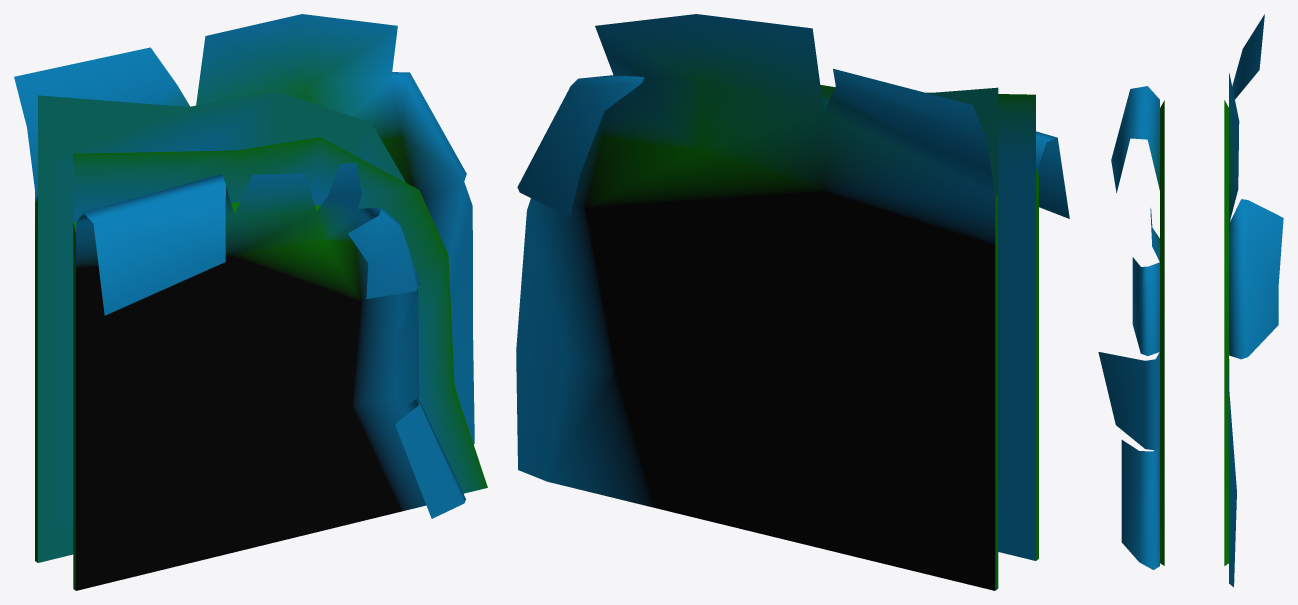
The model's file is DBK_Drywall_End_B.fbx.
The picture shows the model from 3 angles, left to right: view 1: azimuth 30°, elevation 25°; view 2: azimuth 150°, elevation 25°; view 3: azimuth 270°, elevation 25°; orthographic projection. The views are drawn at different scales.
Visible parts, largest first — view 1: DBK_Drywall_End_B; view 2: DBK_Drywall_End_B; view 3: DBK_Drywall_End_B.
Part boxes in pixels (x1,y1,x2,y2): DBK_Drywall_End_B: (14, 14, 487, 590); DBK_Drywall_End_B: (516, 14, 1069, 590); DBK_Drywall_End_B: (1098, 14, 1283, 587).
Size of what is drawn, in the model's own units: 174 by 182 by 74.63.
